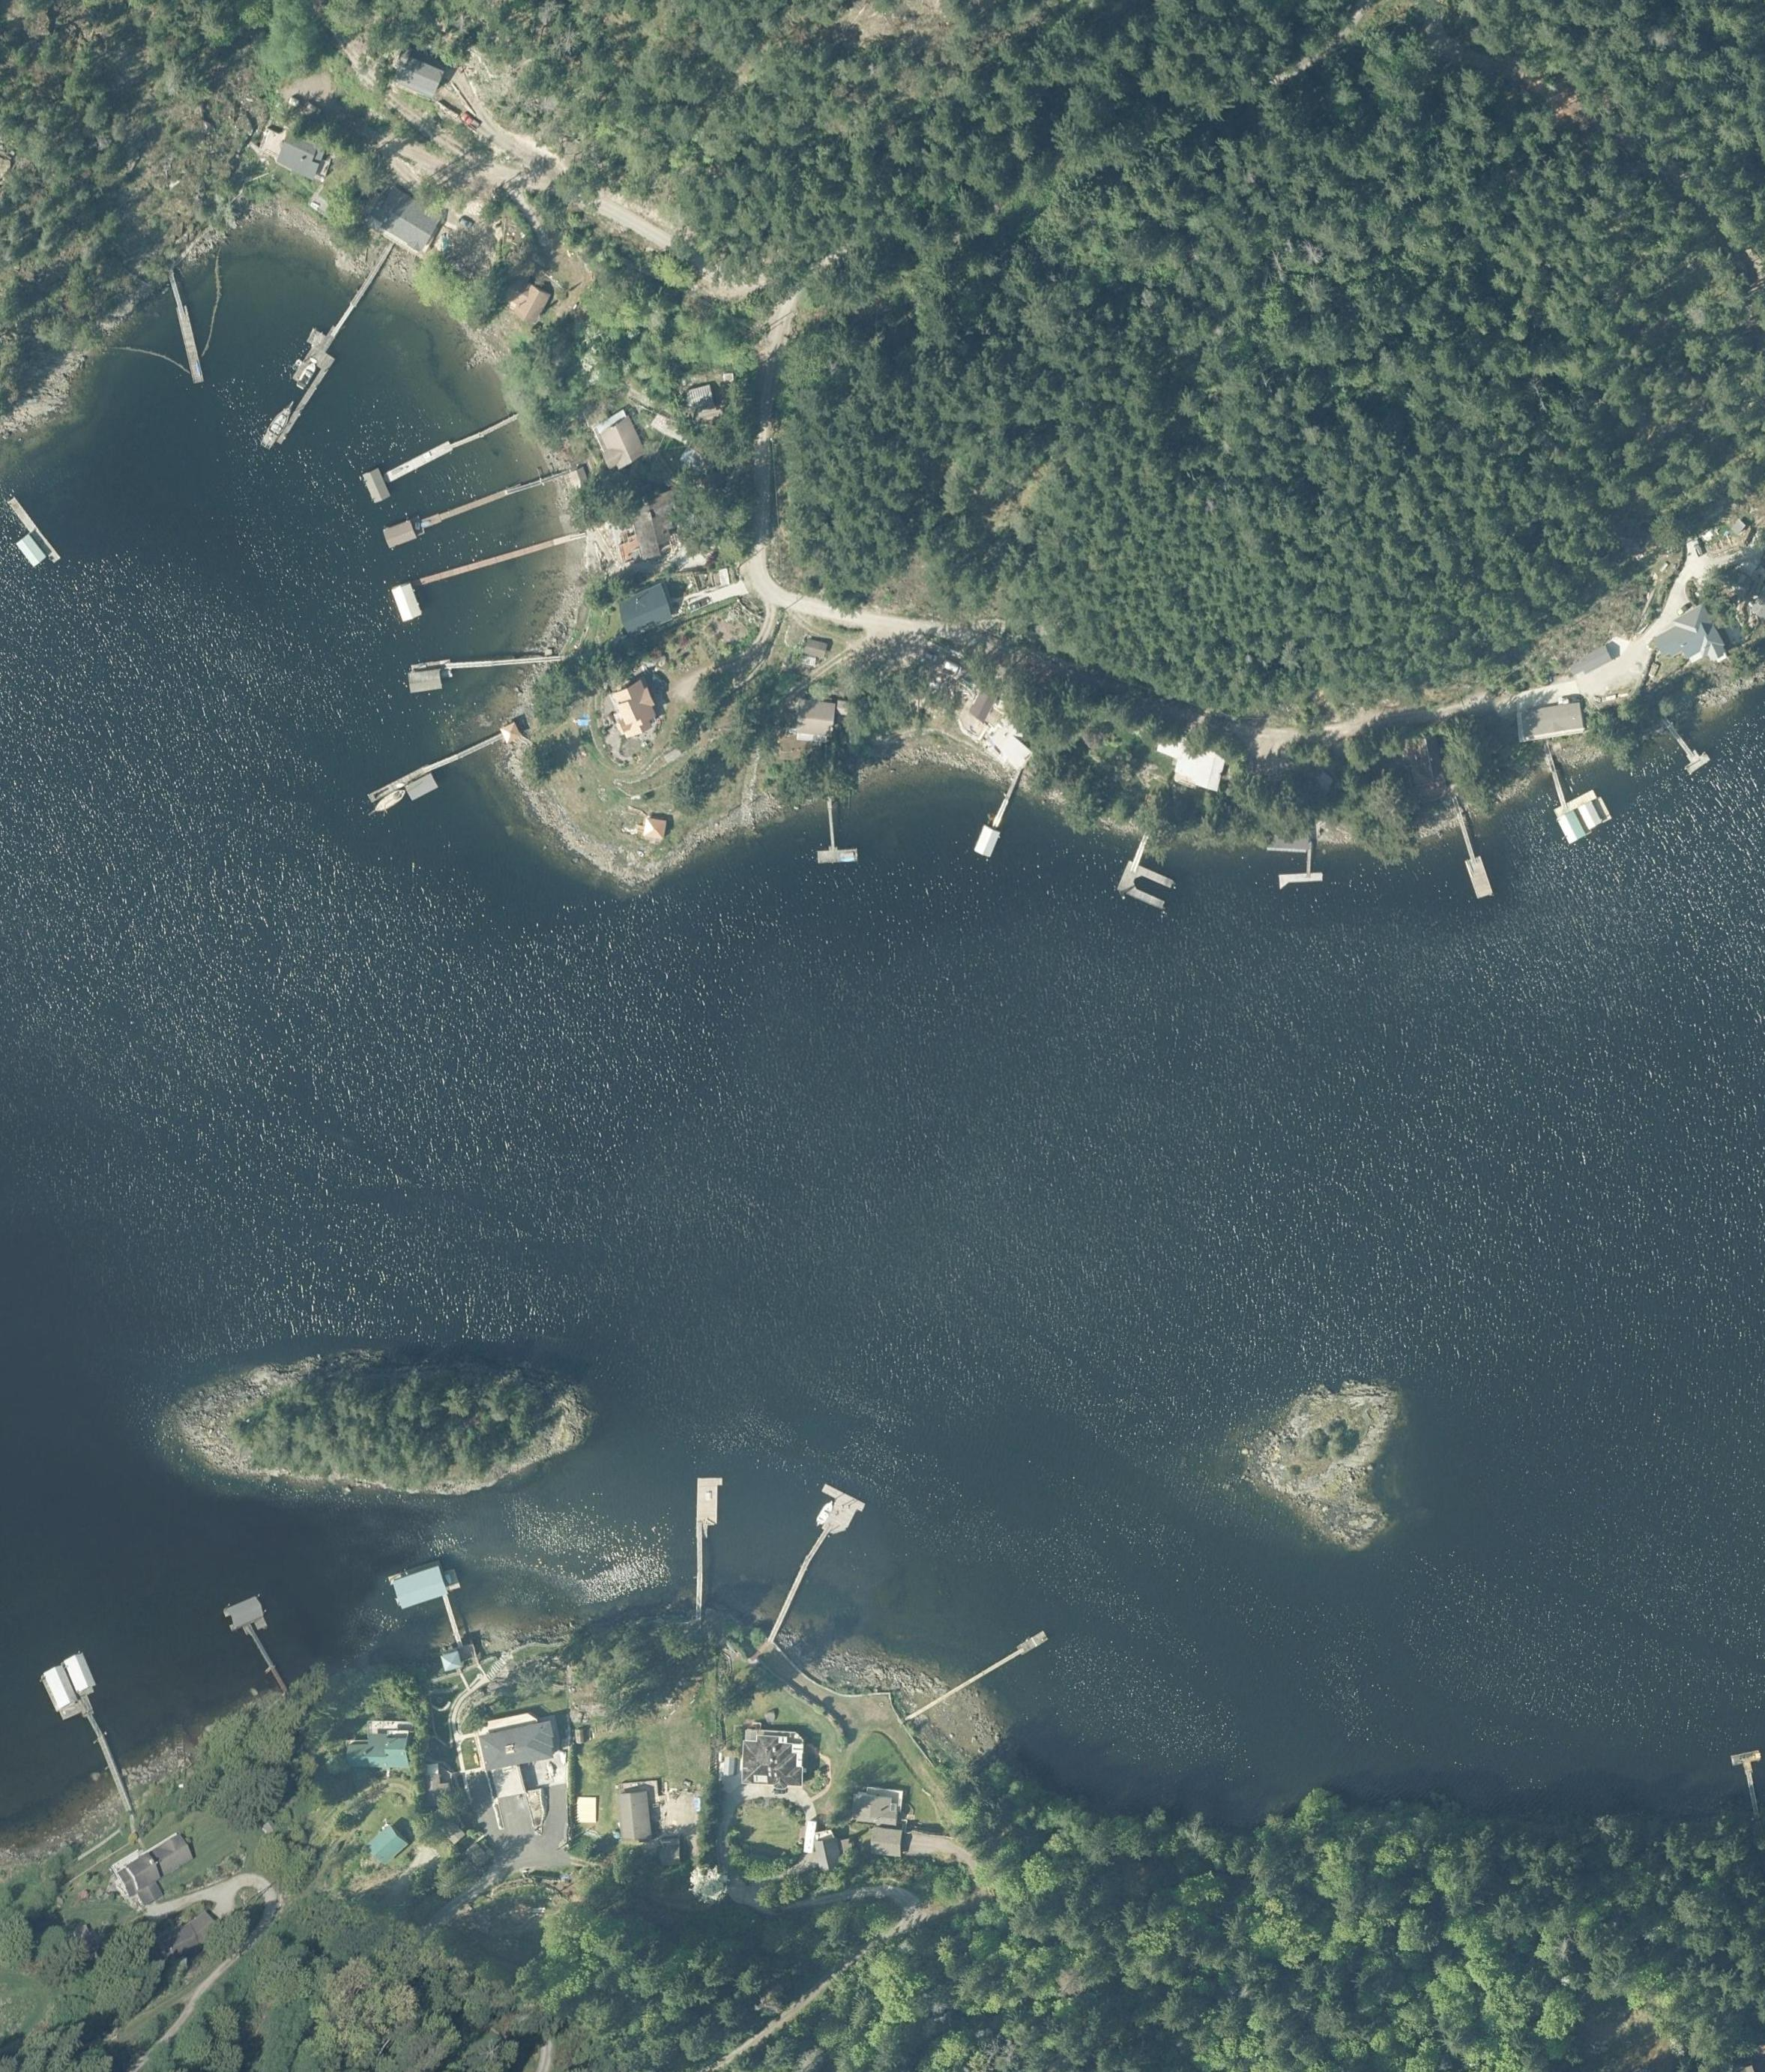harbor: (252, 240, 401, 445), (390, 524, 587, 624), (37, 1652, 138, 1816), (361, 405, 522, 504), (762, 1484, 867, 1636), (383, 462, 557, 550), (368, 732, 504, 818), (921, 1631, 1049, 1713), (1537, 744, 1616, 849), (389, 1557, 473, 1652), (221, 1590, 298, 1692), (408, 652, 559, 694), (1117, 832, 1187, 909), (1446, 802, 1494, 900), (972, 771, 1024, 858), (168, 273, 205, 385), (697, 1478, 723, 1606), (1660, 716, 1712, 776), (1275, 839, 1327, 899), (814, 795, 860, 863)
ship: (257, 398, 299, 452), (369, 786, 408, 818), (294, 361, 320, 392), (812, 1498, 835, 1527)
